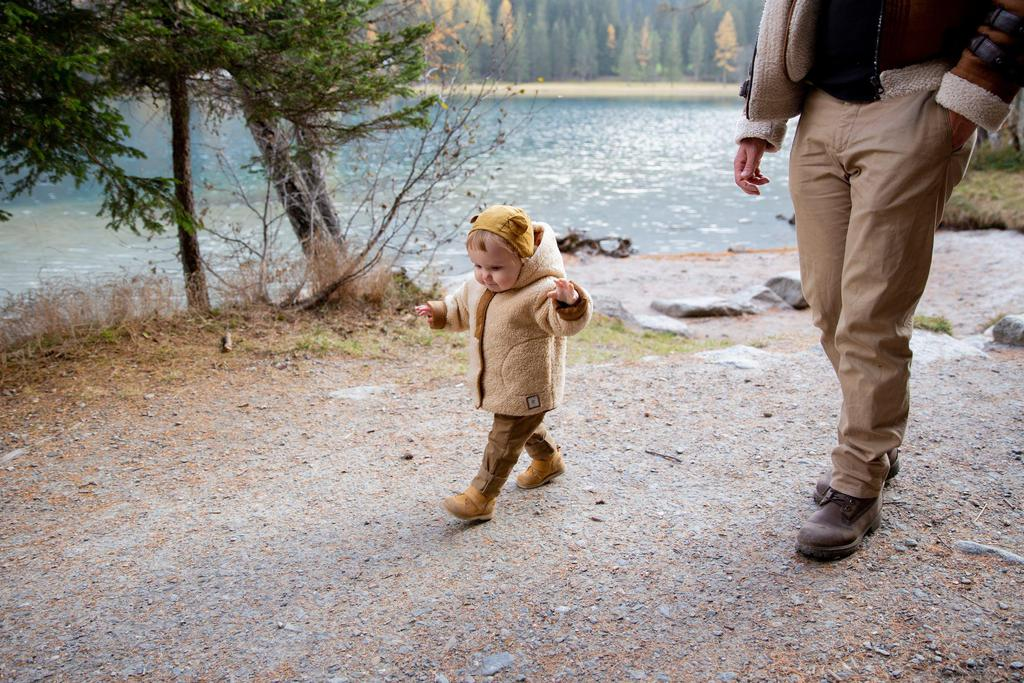child: (390, 198, 603, 528)
